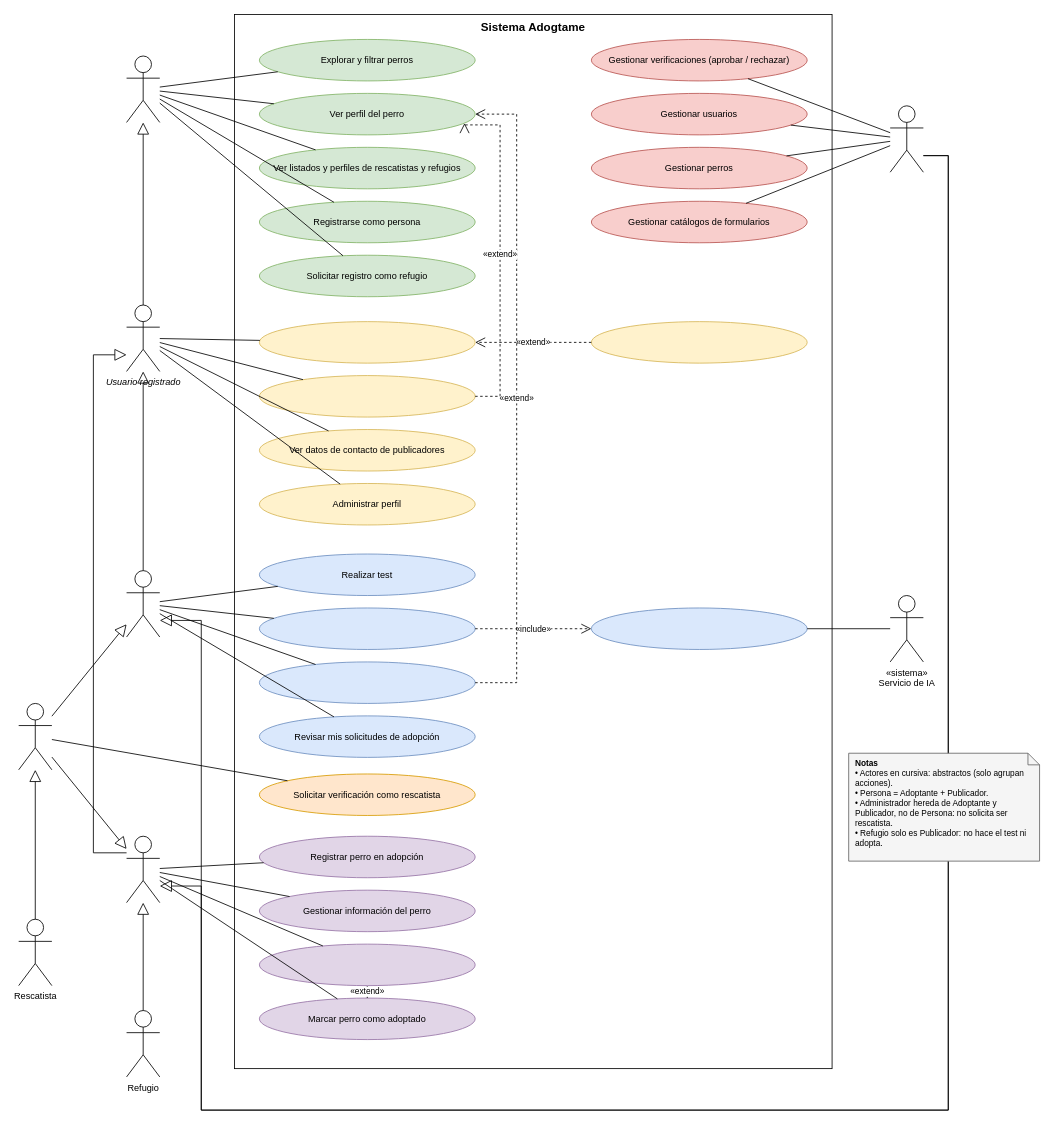
Some shapes in this 1054 by 1136 pixel diagram are drawn without their labels. Here are the shapes that lost their labels. From the top down, the centre of each, then its label:
At pixel 143 88: "Visitante".
At pixel 906 138: "Administrador".
At pixel 367 342: "Iniciar sesión".
At pixel 699 342: "Recuperar contraseña".
At pixel 367 396: "Guardar perros en favoritos".
At pixel 143 603: "Adoptante".
At pixel 367 628: "Revisar recomendaciones de perros".
At pixel 699 628: "Analizar perfil del adoptante".
At pixel 367 682: "Solicitar adopción".
At pixel 35 736: "Persona".
At pixel 143 869: "Publicador".
At pixel 367 964: "Gestionar solicitudes de adopción".
